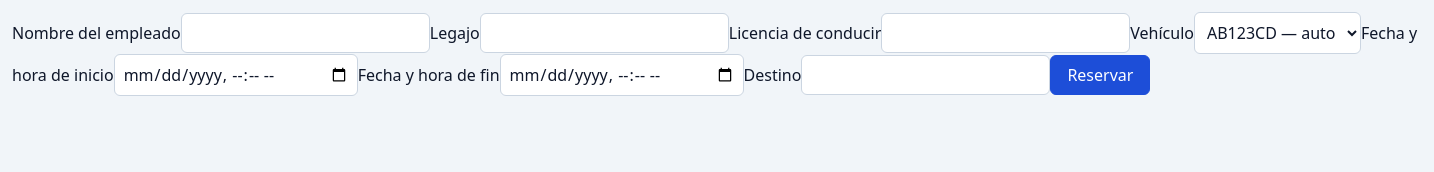
Test case: ReservaForm › no envía la request si fecha_fin es anterior o igual a fecha_inicio
In the field labelled "Nombre del empleado": {"x": 305, "y": 33} [181, 13, 430, 53], type "Juan Pérez"
In the field labelled "Legajo": {"x": 604, "y": 33} [480, 13, 729, 53], type "1234"
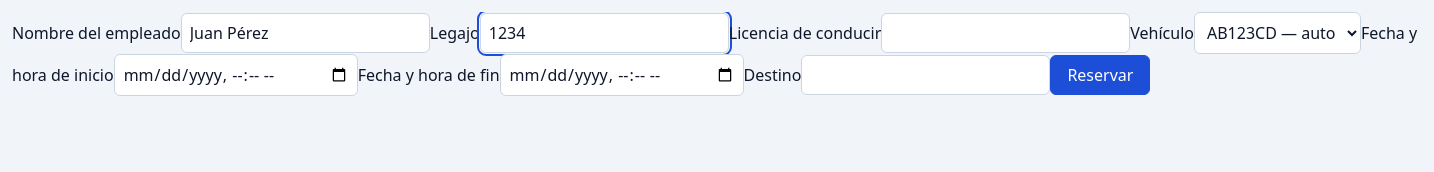
In the field labelled "Licencia de conducir": {"x": 1006, "y": 33} [881, 13, 1130, 53], type "5678"
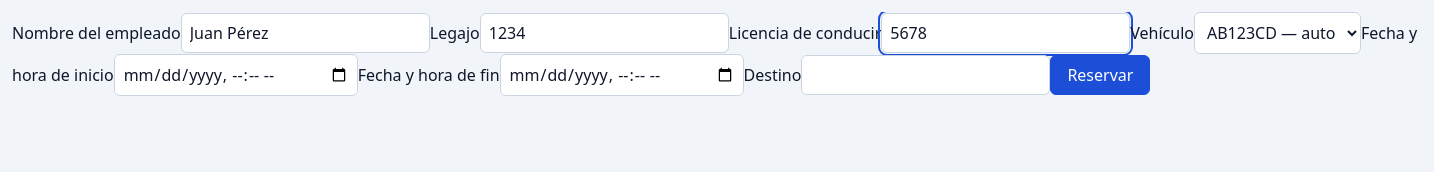
In the field labelled "Fecha y hora de inicio": {"x": 236, "y": 75} [114, 54, 358, 96], type "2026-08-10T10:00"
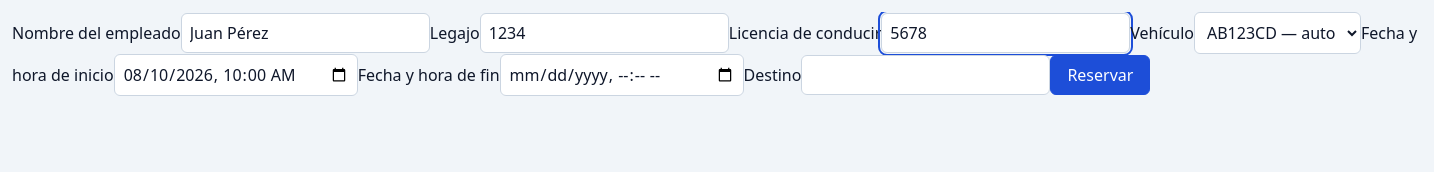
In the field labelled "Fecha y hora de fin": {"x": 622, "y": 75} [500, 54, 744, 96], type "2026-08-10T09:00"
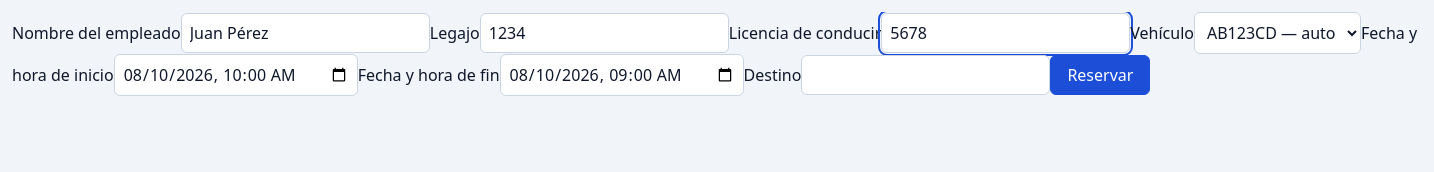
In the field labelled "Destino": {"x": 926, "y": 75} [801, 55, 1050, 95], type "Sucursal Norte"
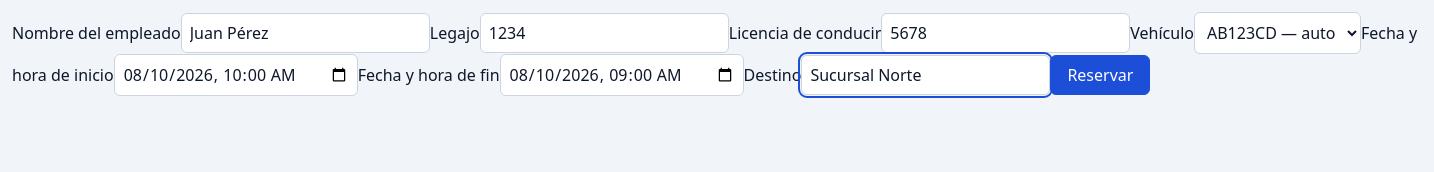
Click the button "Reservar": {"x": 1100, "y": 75} [1050, 55, 1150, 95]
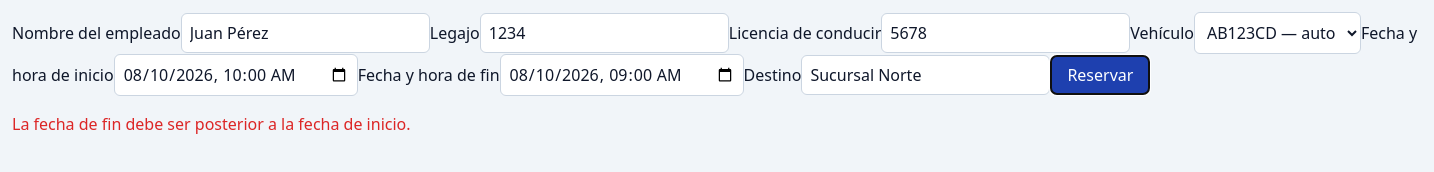
Result: the message shows "posterior" at [12, 113, 410, 135]
